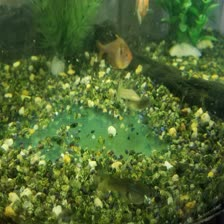Guppy: (96, 173, 167, 205)
Plano: (133, 0, 152, 25)
Transparente: (96, 32, 137, 70)
